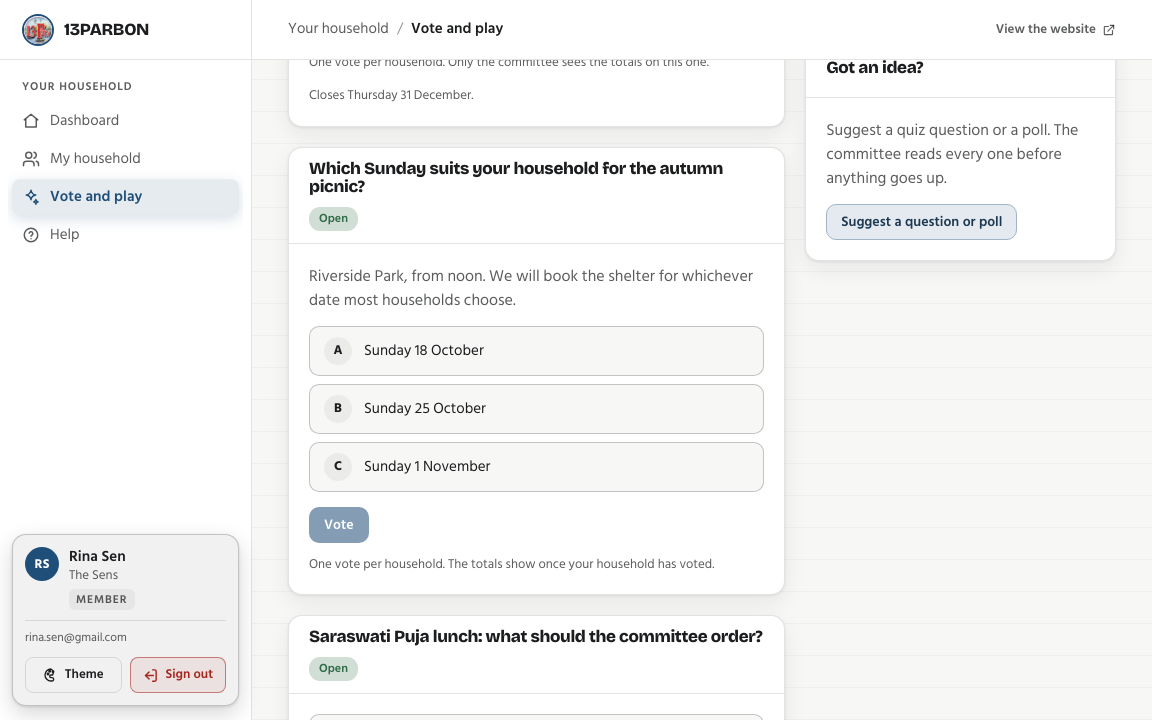
polls and quizzes, for a member › asks for a vote, then shows the totals with their choice marked
The width and height of the screenshot is (1152, 720).
(page scrolled)
expect the button "Vote" is disabled: met, box [309, 507, 369, 543]
What coordinates should you click on to do the following:
click the radio button labelled "B Sunday 25 October"
I would click on:
 (425, 408)
Its box is [309, 384, 764, 434].
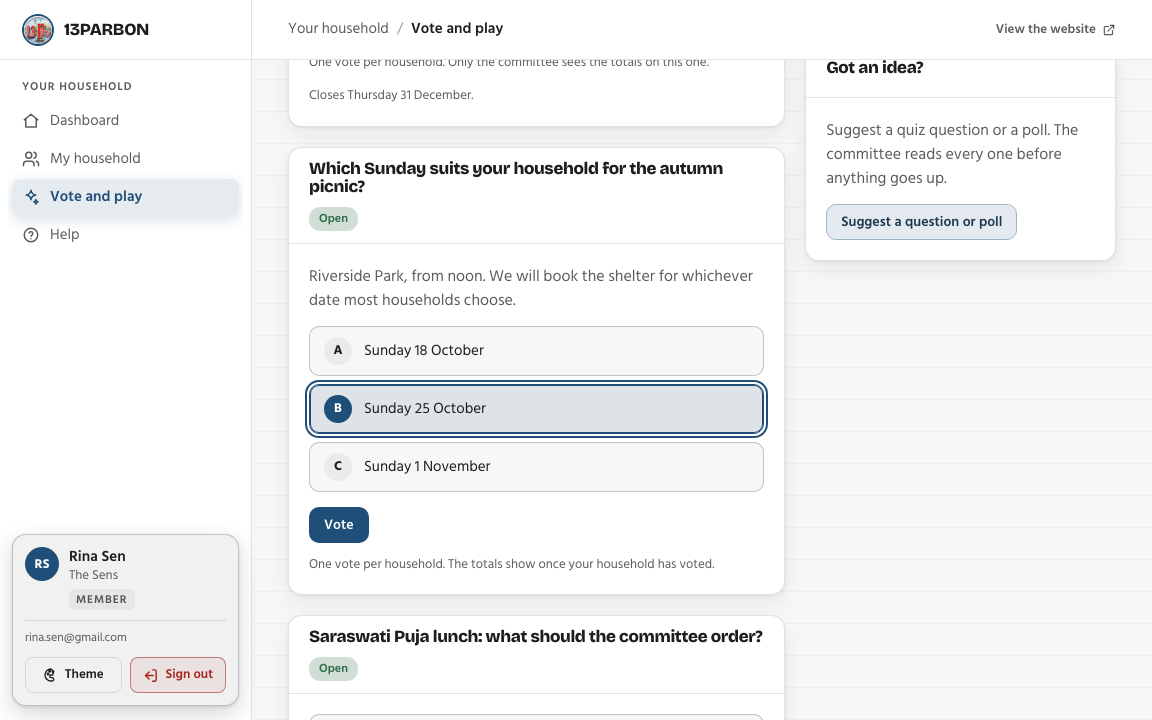
What coordinates should you click on to do the following:
click the button "Vote"
I would click on:
 (339, 525)
Its box is [309, 507, 369, 543].
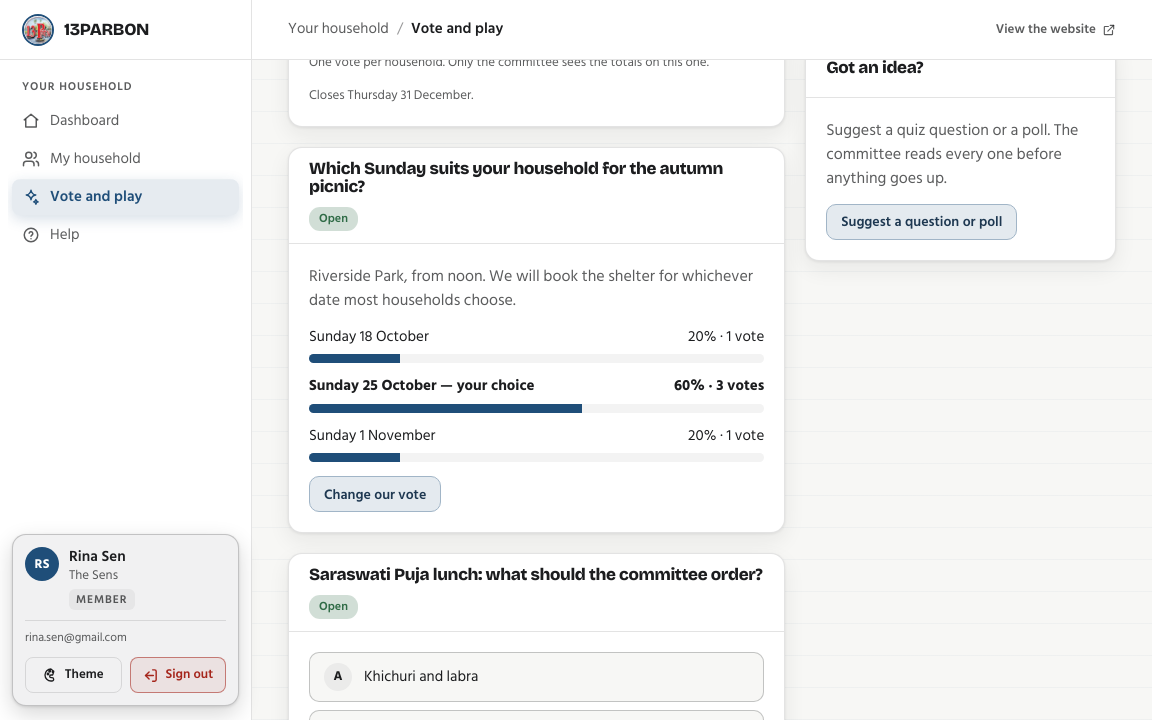
expect the text "Sunday 25 October — your choice" is shown: met, box [309, 375, 534, 398]
expect the text "60% · 3 votes" is shown: met, box [674, 375, 764, 398]
